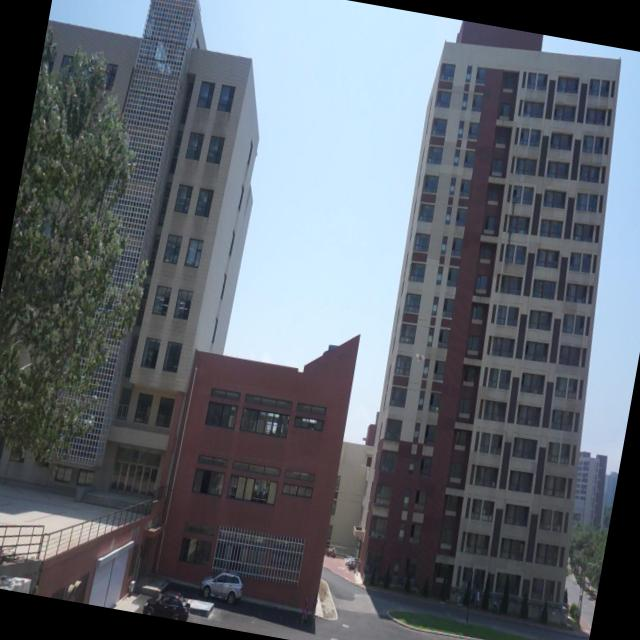drone: (412, 348, 428, 364)
